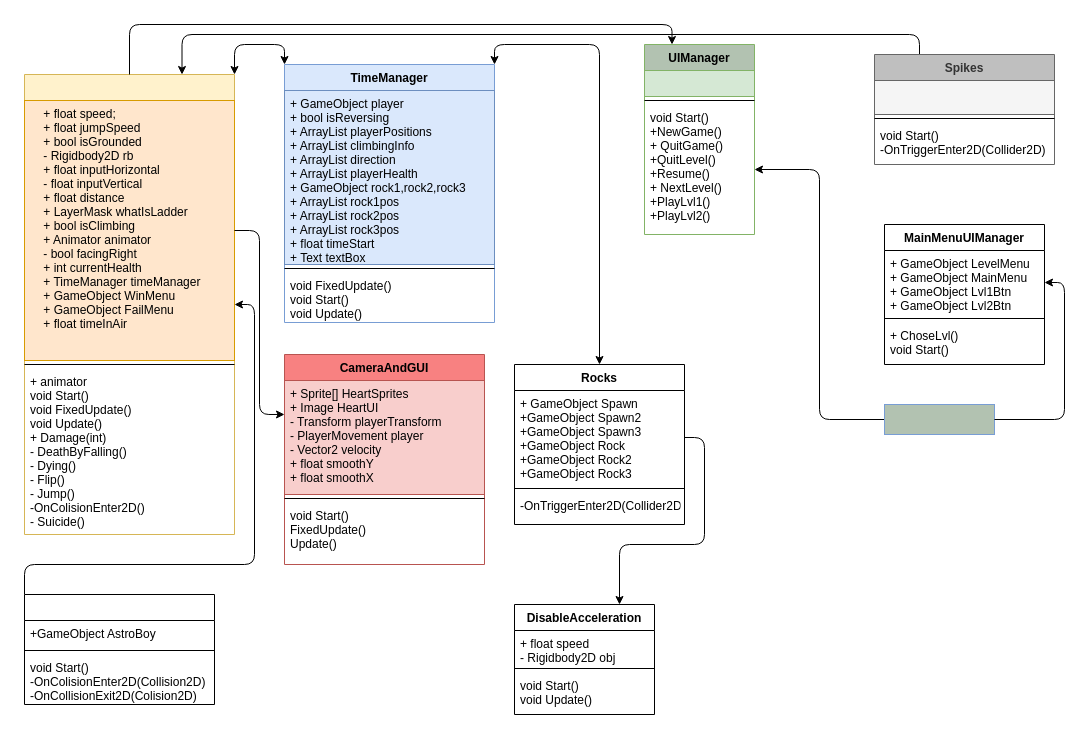
This 1090x735 diagram has some shape labels left out. The shapes that lost their labels are listed below. From the top down, each one's box as (x1, y1, x2, y2) in pixels, then its label:
(644, 70, 754, 96): + int activeScene
(874, 80, 1054, 114): - PlayerMovement player
(24, 74, 234, 534): PlayerMovement
(884, 404, 994, 434): Buttons scene 0
(24, 594, 214, 704): Grounded
